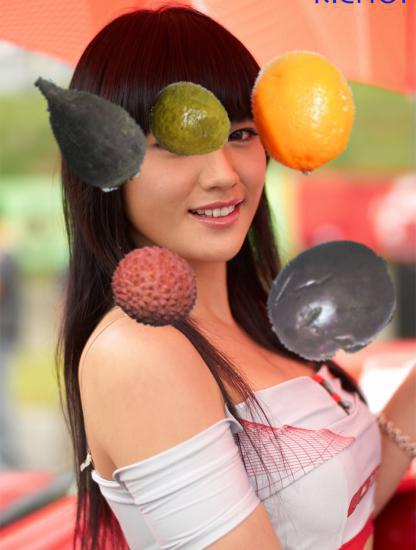Apple: (316, 253, 398, 335)
Beetroot: (13, 56, 163, 206)
Guava: (150, 80, 233, 163)
Lemon: (240, 48, 368, 176)
Lychee: (110, 241, 202, 333)
Passion: (263, 234, 399, 370)
